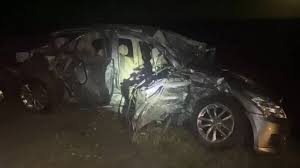car: (25, 20, 280, 152)
